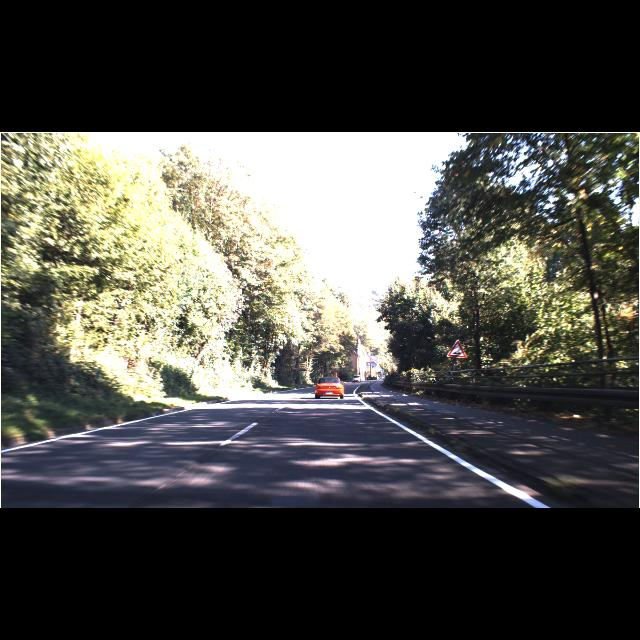danger: (447, 339, 468, 358)
